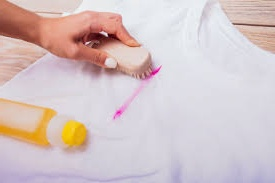lipstick: (112, 104, 128, 122), (147, 65, 160, 82), (133, 86, 141, 97)
